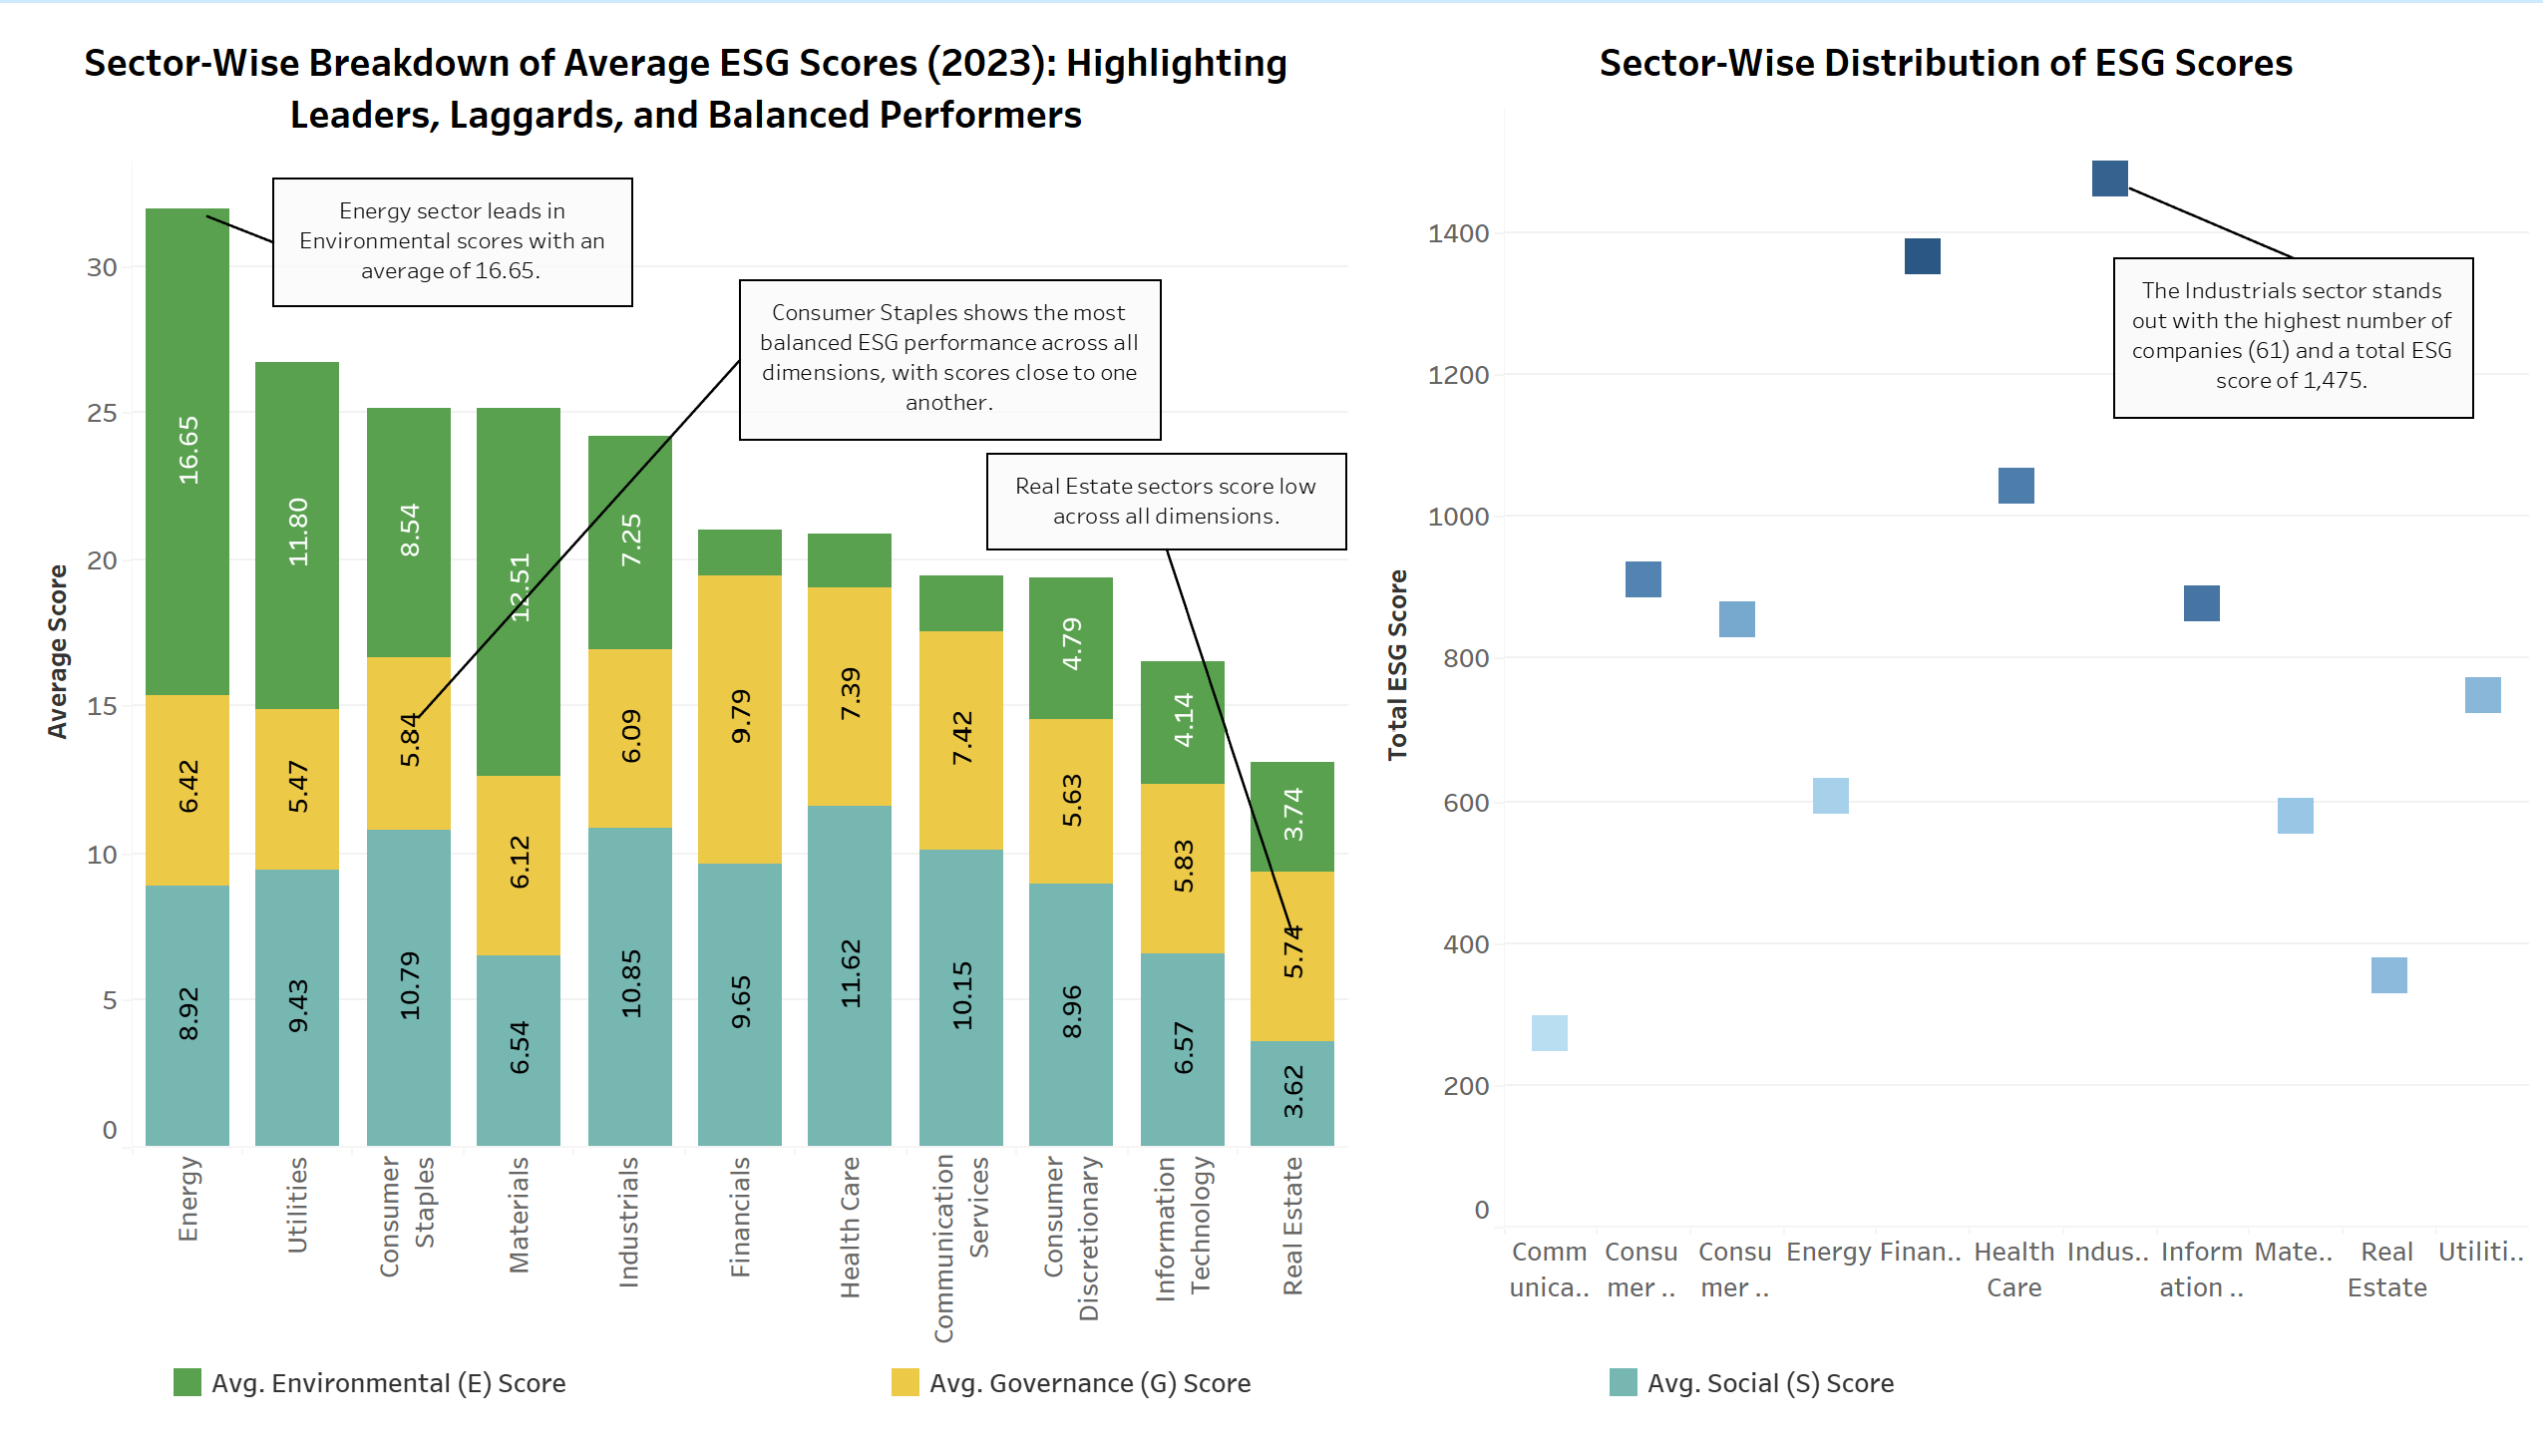

This screenshot's page, from the dashboard's own definition file:
{"tool":"tableau","page":{"name":"Sector Analysis Dashboard","canvas":[1000,1000],"units":"permille","ordinal":3},"visuals":[{"type":"worksheet","title":"Average ESG Scores by Sector","mark":"Bar","cols":["F3"],"box":[7.5,13.9,523.7,911.4]},{"type":"worksheet","title":"Sector-Wise Distribution","mark":"Square","rows":["F8"],"cols":["F3"],"box":[531.2,13.9,461.3,911.4]},{"type":"legend","title":"Average ESG Scores by Sector","param":"[federated.183ex6k1i21zd11aauyrt0kpkp7h].[:Measure Names]","box":[7.5,925.3,985.1,60.8]}]}

Visuals, with their boxes on the dashboard's canvas, which has no fixed pixel size, in thousandths of its width and height (x1, y1, x2, y2). These are canvas units, not pixel positions in the 2543x1456 screenshot, which may show the page scaled, cropped or inside an application window:
"Average ESG Scores by Sector" worksheet (Bar marks): <box>8,14,531,925</box>
"Sector-Wise Distribution" worksheet (Square marks): <box>531,14,992,925</box>
"Average ESG Scores by Sector" legend: <box>8,925,993,986</box>
